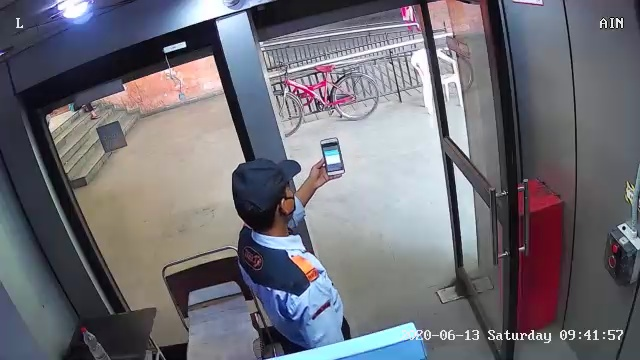open: (196, 4, 551, 360)
